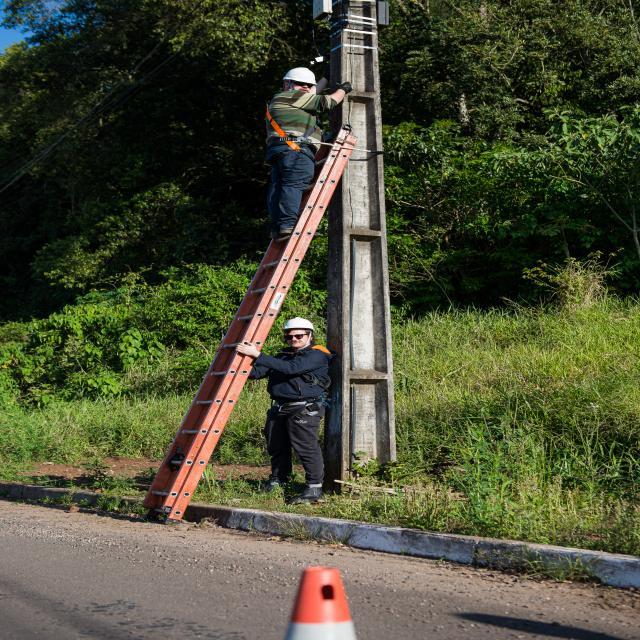botas: (288, 484, 328, 506)
capacete: (279, 68, 320, 84), (281, 316, 318, 332)
luva: (336, 79, 355, 91)
